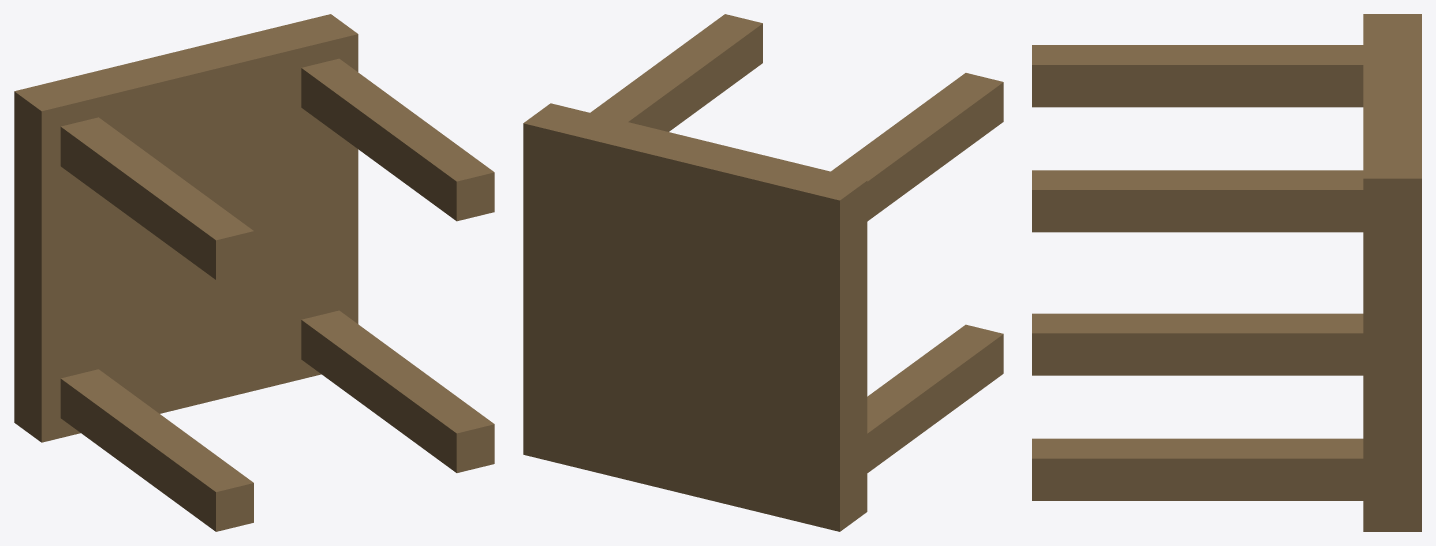
The model's file is dark_oak_table_held.gltf.
3 renders of one model, left to right at view 1: azimuth 30°, elevation 25°; view 2: azimuth 150°, elevation 25°; view 3: azimuth 270°, elevation 25°, orthographic. The views are drawn at different scales.
Parts seen in each view (by area): view 1: building_dark_oak_table_held; view 2: building_dark_oak_table_held; view 3: building_dark_oak_table_held.
Boxes of the visible parts, left/top/right/bottom form: building_dark_oak_table_held: left=14, top=14, right=494, bottom=531; building_dark_oak_table_held: left=523, top=14, right=1003, bottom=531; building_dark_oak_table_held: left=1032, top=14, right=1421, bottom=531.
Bounding box in the file's own units: 0.16 × 0.16 × 0.16.
